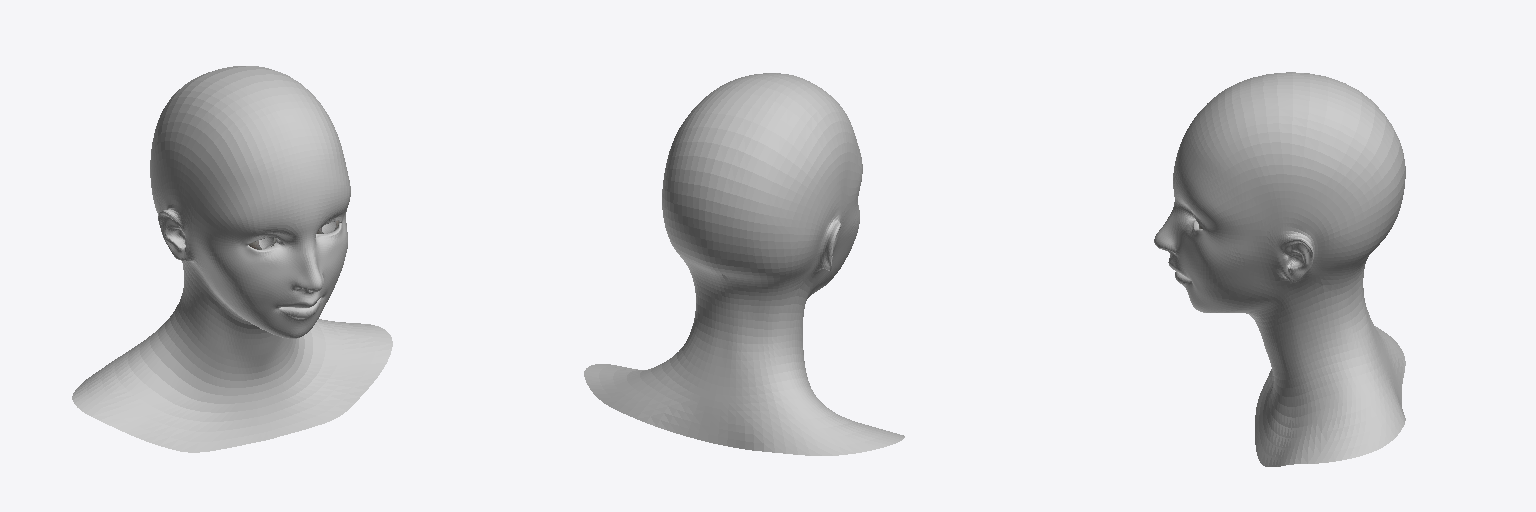
3 views of the same model, side by side, from view 1: azimuth 30°, elevation 25°; view 2: azimuth 150°, elevation 25°; view 3: azimuth 270°, elevation 25° (orthographic).
Parts seen in each view (by area): view 1: Head, Skull; view 2: Head, Skull; view 3: Head, Skull.
Part boxes in pixels (bbox=[...]): Head: bbox=[72, 68, 392, 452]; Skull: bbox=[150, 66, 345, 228]; Head: bbox=[584, 75, 904, 455]; Skull: bbox=[662, 73, 858, 286]; Head: bbox=[1154, 79, 1405, 466]; Skull: bbox=[1182, 72, 1405, 275].
Bounding box in the file's own units: 3.07 × 3.3 × 2.16.
3 materials, 1 textured.